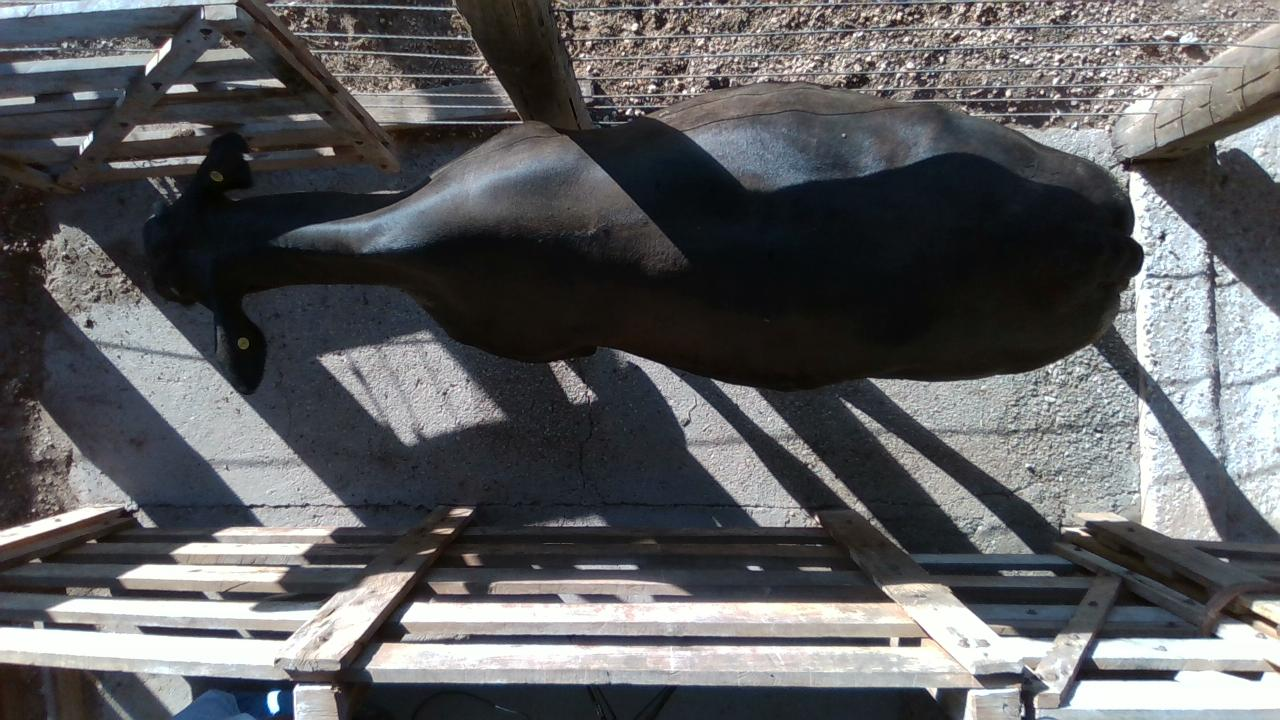cattle: (141, 80, 1143, 395)
